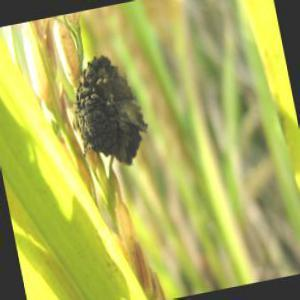Leaf_Scald: (76, 61, 138, 159)
